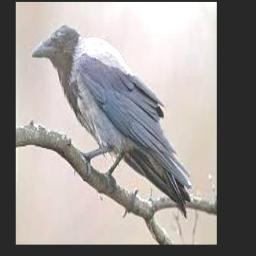Crow: (31, 24, 192, 217)
